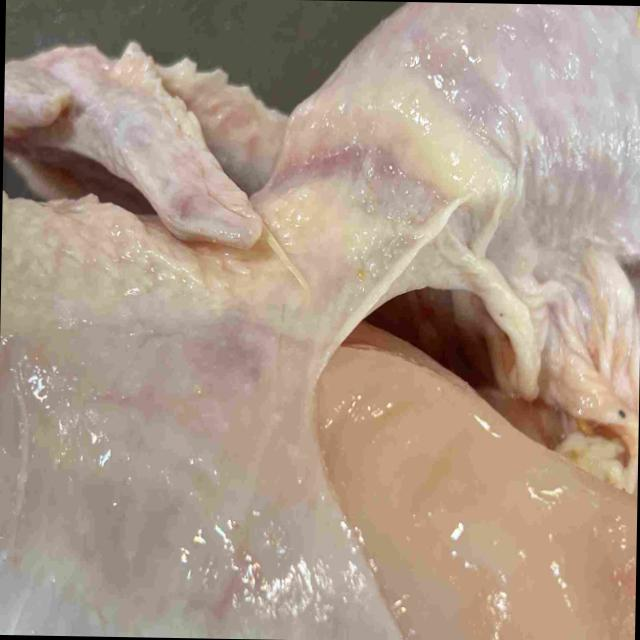breast: (0, 224, 637, 640)
leg: (259, 2, 640, 310)
wing: (3, 39, 284, 254)
